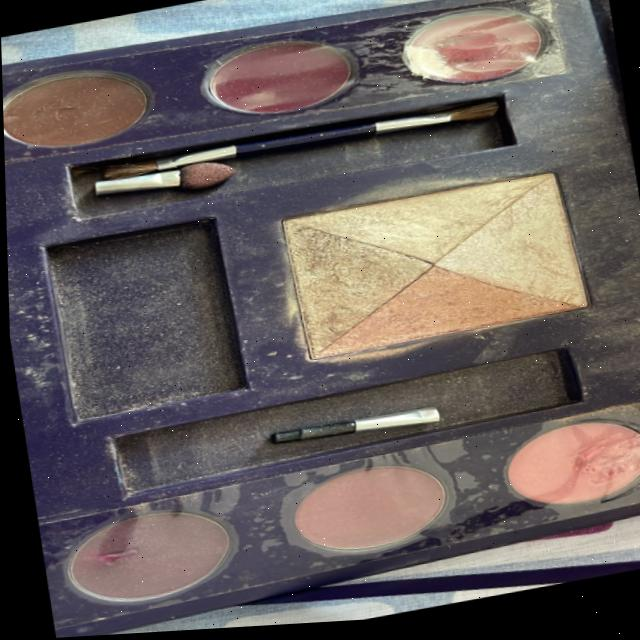eye shade: (39, 403, 640, 628)
highlighter: (255, 154, 610, 378)
